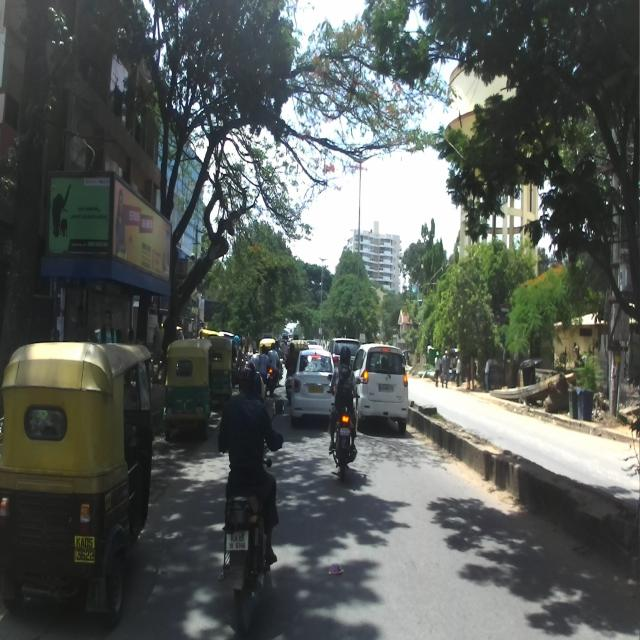autorickshaw: (1, 338, 156, 624), (161, 339, 213, 442)
car: (350, 341, 409, 437)
motorcycle: (218, 392, 284, 634), (326, 372, 361, 486)
